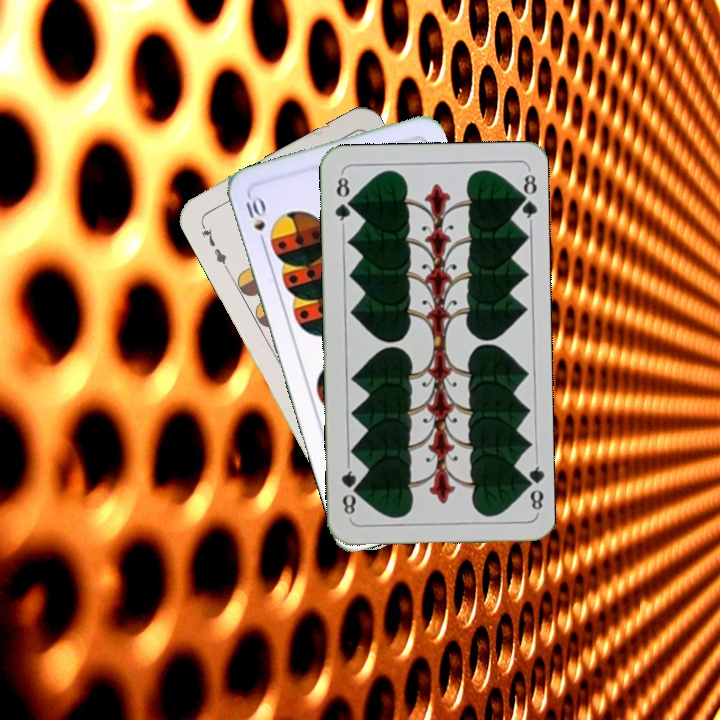E7: (196, 219, 231, 273)
G8: (519, 456, 546, 515), (330, 170, 354, 229)
S10: (242, 192, 269, 250)
